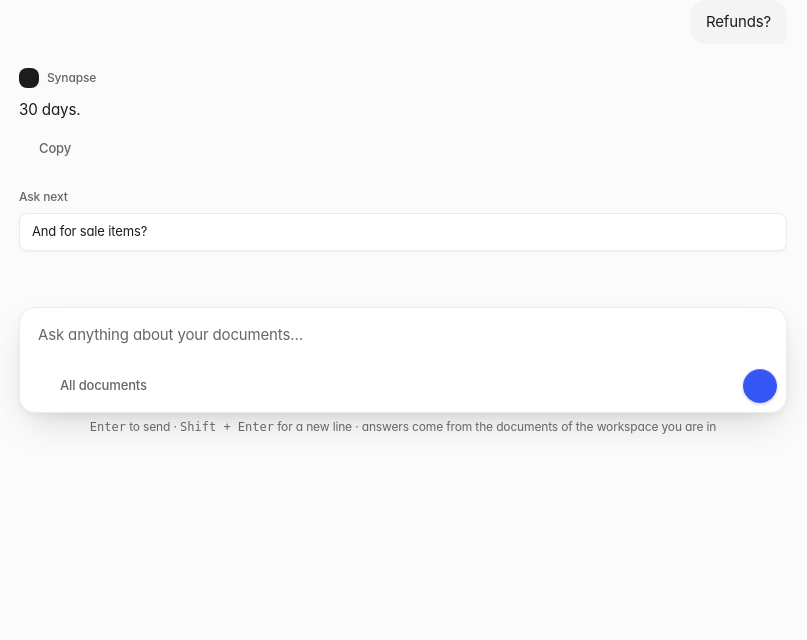
Copy, regenerate and follow-ups › a new, unsaved conversation offers no regenerate; picking a follow-up sends it
The image size is (807, 640).
Expected: the button "Regenerate" is not shown
Click the button "And for sale items?" at (90, 231), box top-left (19, 213), bottom-right (787, 251)
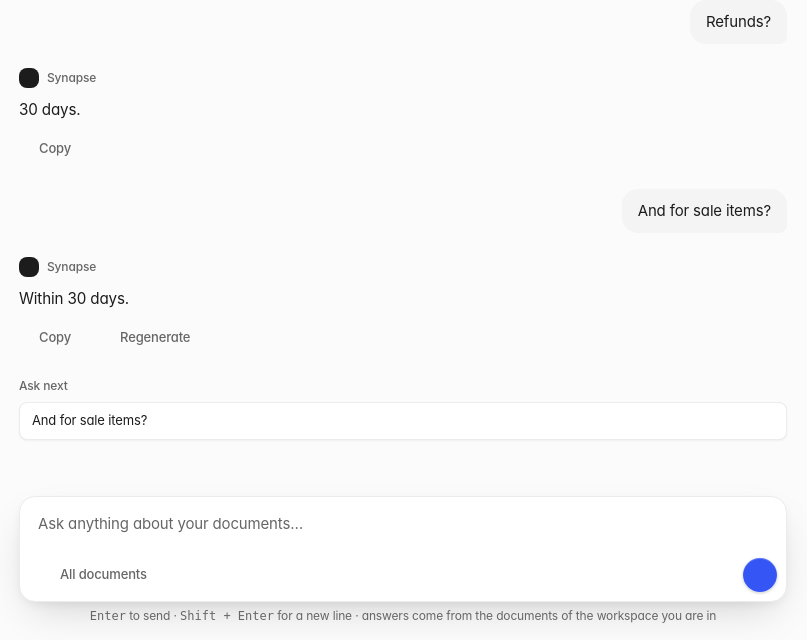
Now the text "And for sale items?" below "Refunds?" is shown, box top-left (638, 201), bottom-right (771, 220)
Now the button "Regenerate" is shown, box top-left (88, 322), bottom-right (203, 354)
